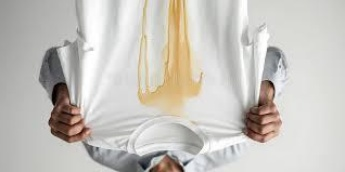coffee: (137, 0, 201, 108)
